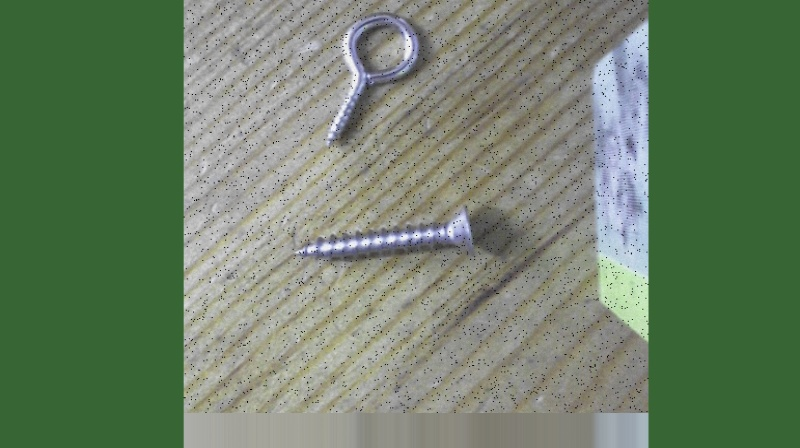O001: (320, 8, 427, 154)
S001: (292, 202, 487, 270)
